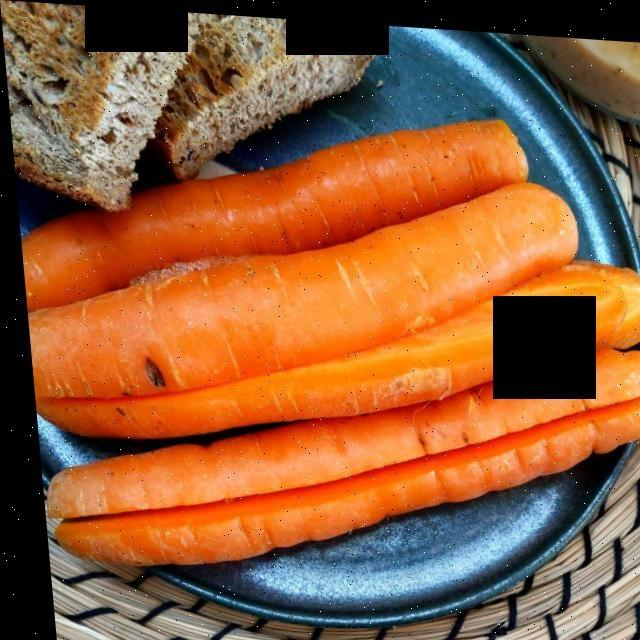carrot: (24, 118, 640, 558)
